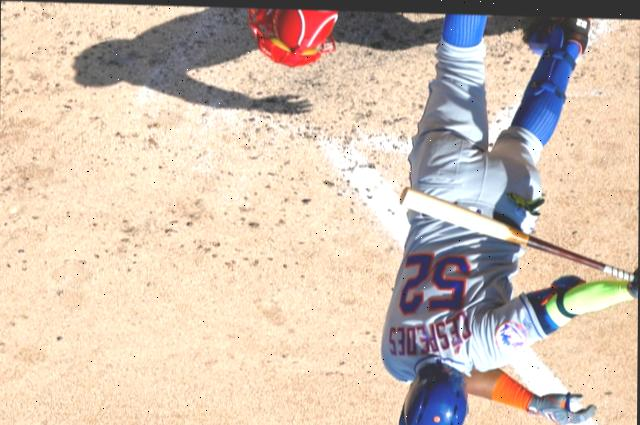baseball bat: (399, 182, 638, 290)
